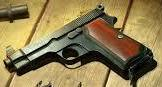gun: (1, 1, 162, 87)
